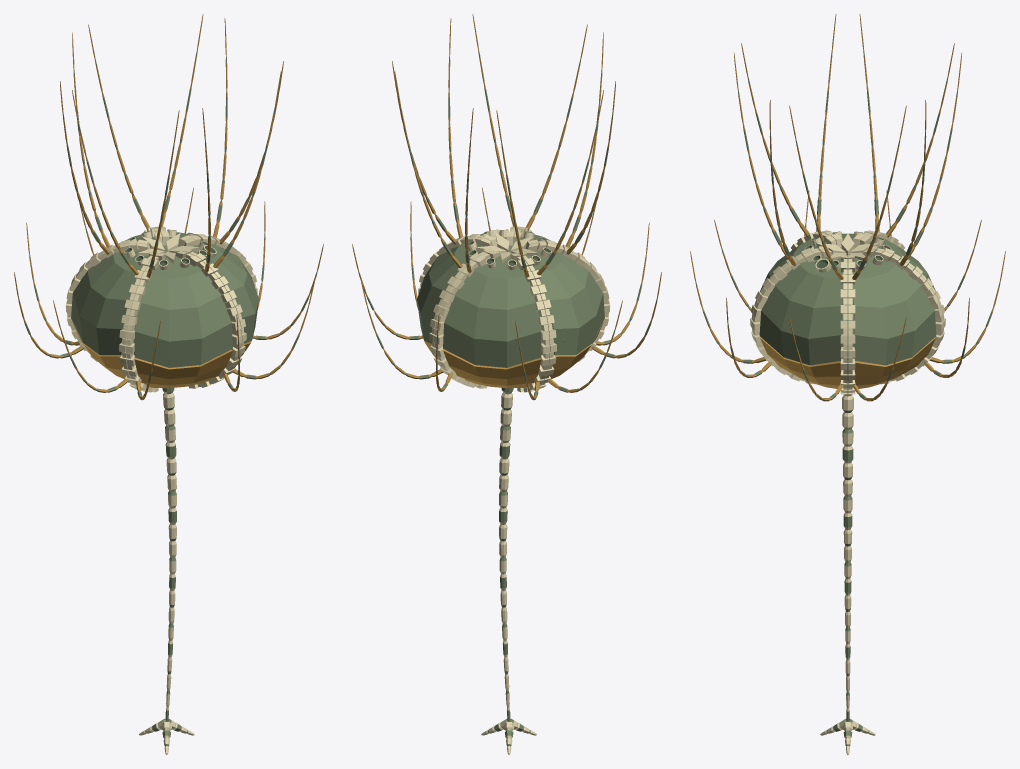
Rendered from nucleocrinus.glb.
3 renders of one model, left to right at view 1: azimuth 30°, elevation 25°; view 2: azimuth 150°, elevation 25°; view 3: azimuth 270°, elevation 25°, orthographic.
Visible parts, largest first — view 1: nucleocrinus-original-organism; view 2: nucleocrinus-original-organism; view 3: nucleocrinus-original-organism.
Boxes of the visible parts, x1,y1,x2,y2 form: nucleocrinus-original-organism: (14, 14, 323, 754); nucleocrinus-original-organism: (352, 14, 661, 754); nucleocrinus-original-organism: (690, 14, 1005, 754).
Bounding box in the file's own units: 0.0172 × 0.043 × 0.0181.
